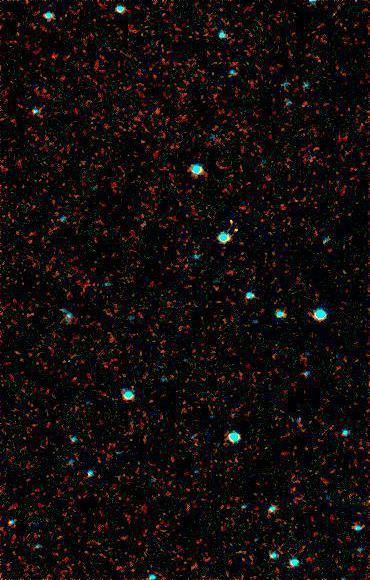star: (220, 210, 250, 240)
